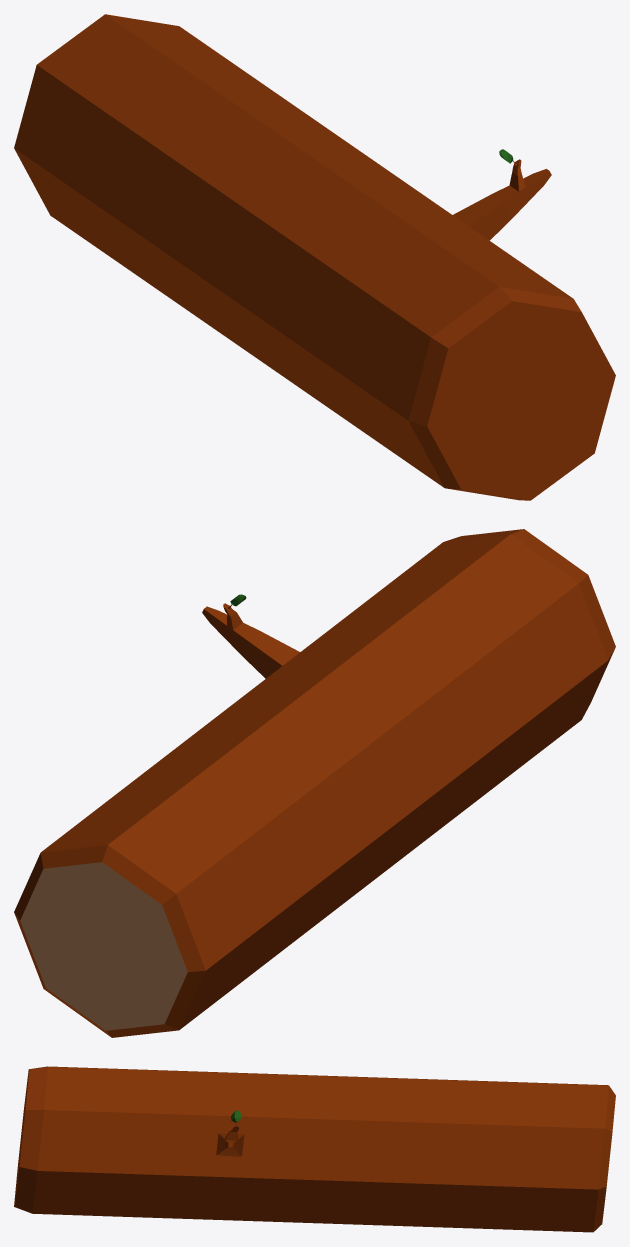
The model's file is log.fbx.
3 views of the same model, one above another, from view 1: azimuth 30°, elevation 25°; view 2: azimuth 150°, elevation 25°; view 3: azimuth 270°, elevation 25° (orthographic). The views are drawn at different scales.
Visible parts, largest first — view 1: Cylinder; view 2: Cylinder; view 3: Cylinder.
Part boxes in pixels (bbox=[...]): Cylinder: bbox=[14, 14, 615, 500]; Cylinder: bbox=[14, 529, 615, 1037]; Cylinder: bbox=[14, 1066, 615, 1232].
Size of the model in its own units: 276 by 222 by 744.
